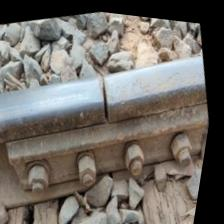person: (68, 60, 148, 135)
